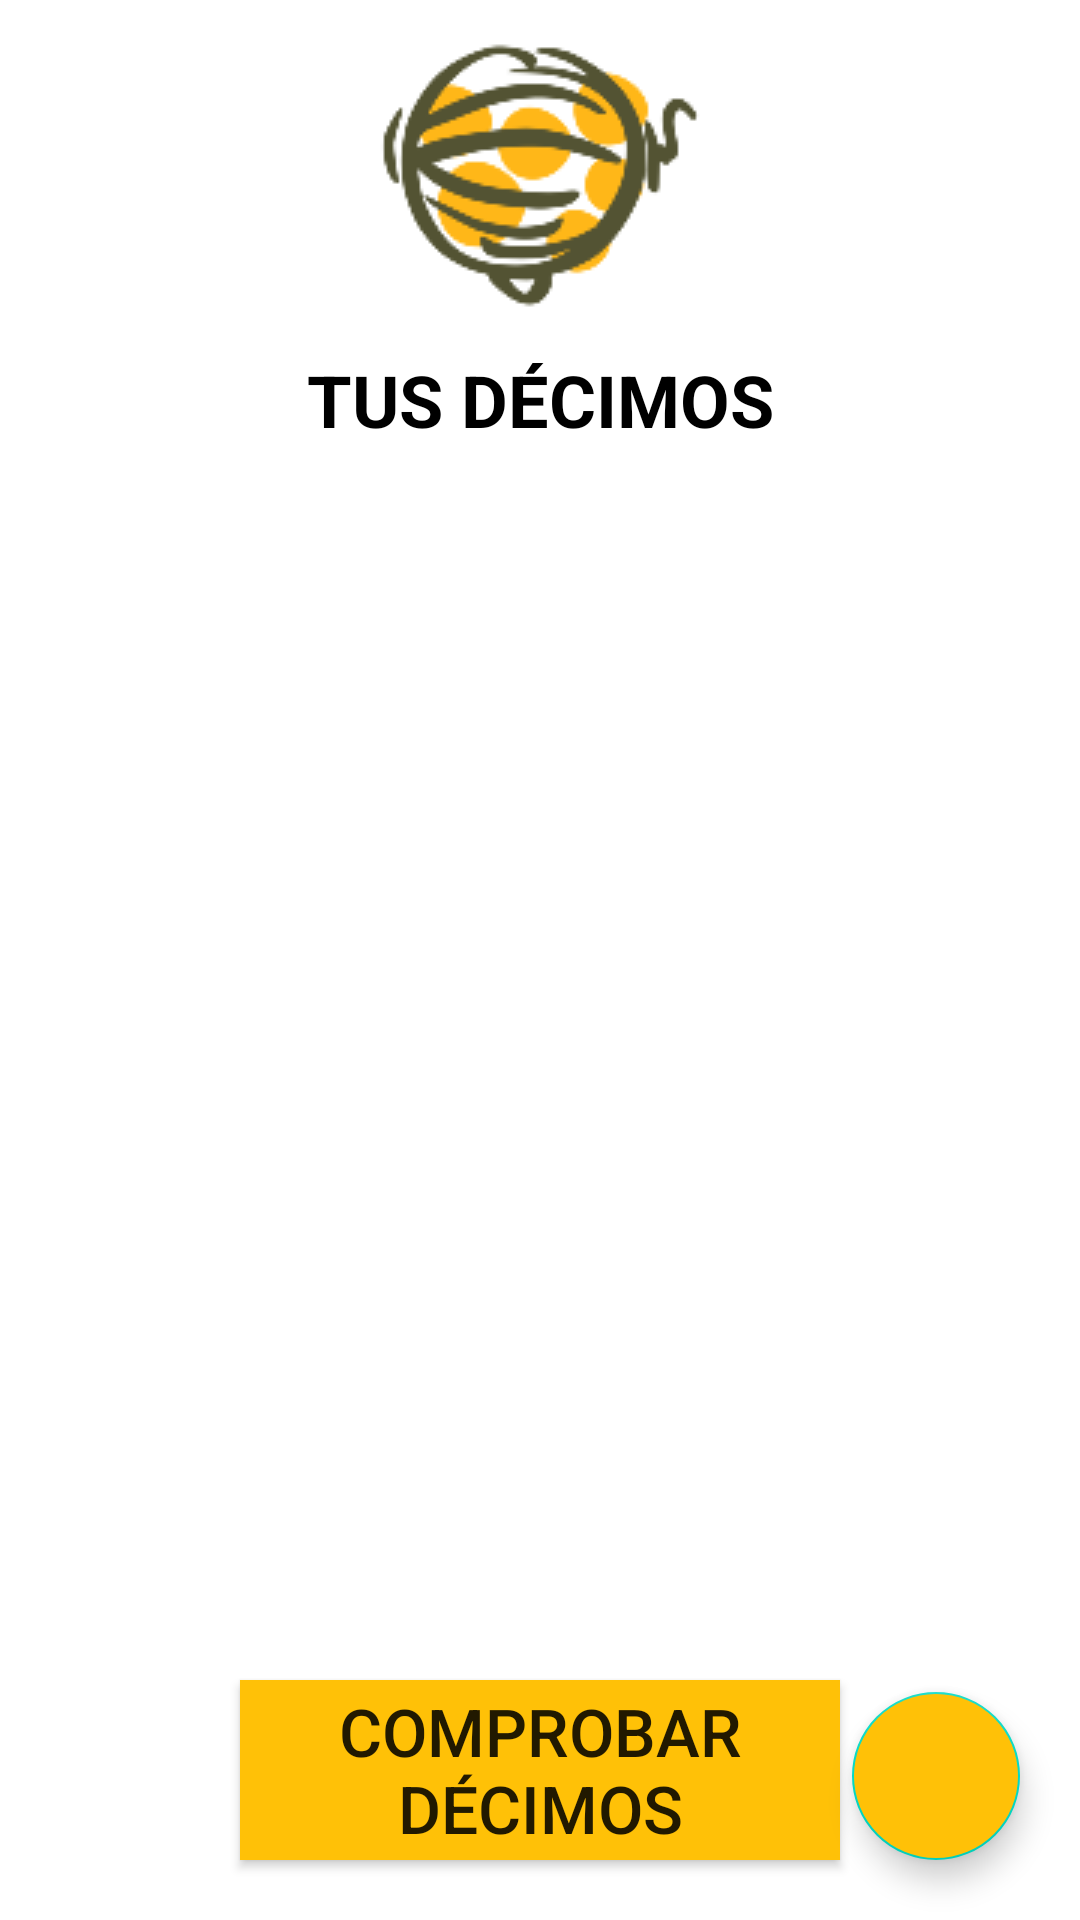

Where to tap for icons on this 1080 × 1920 app screen, as (x,y):
bombo: (540,175)
